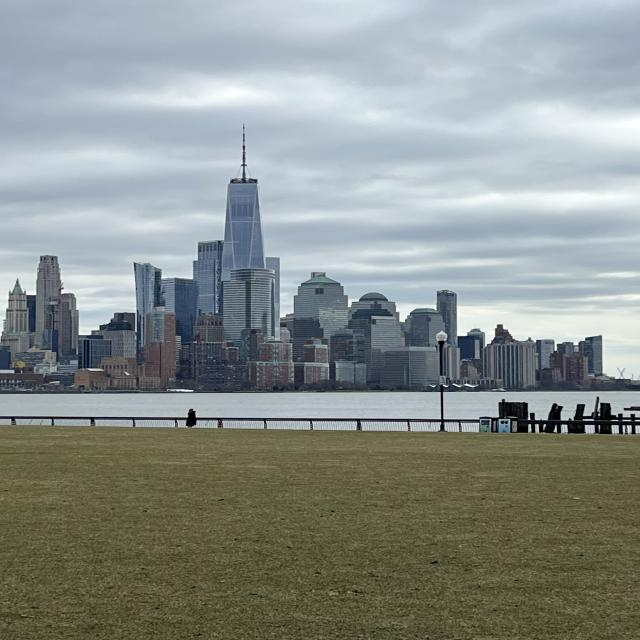WTC: (221, 125, 266, 273)
